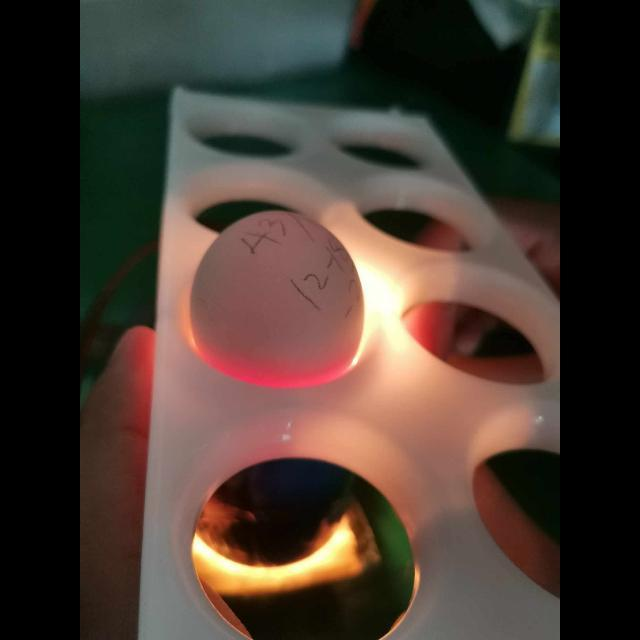Fertile: (189, 208, 369, 388)
